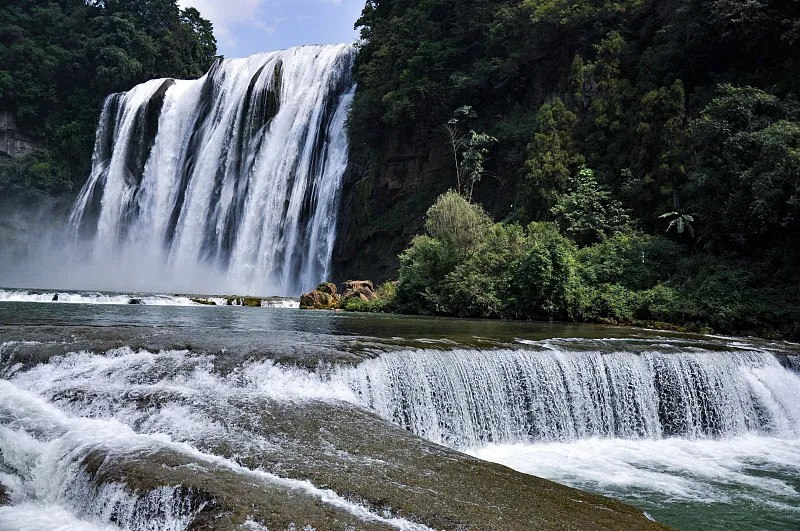Huangguoshu: (63, 40, 358, 300)
